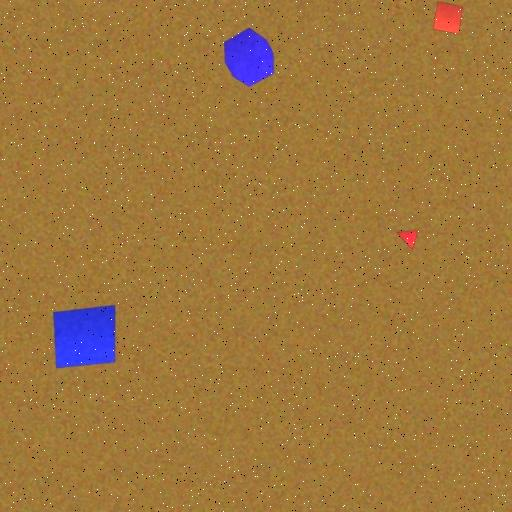BLUE_SQUARE: (53, 304, 116, 369)
RED_SQUARE: (432, 1, 463, 34)
